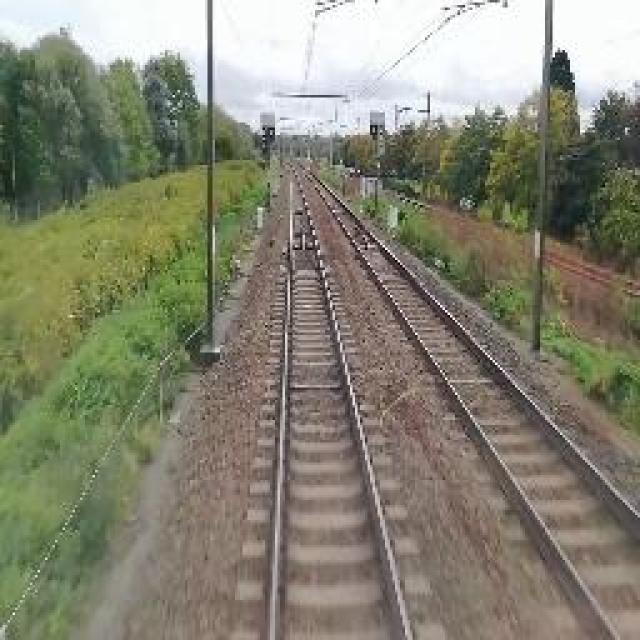rail: (229, 160, 449, 640)
